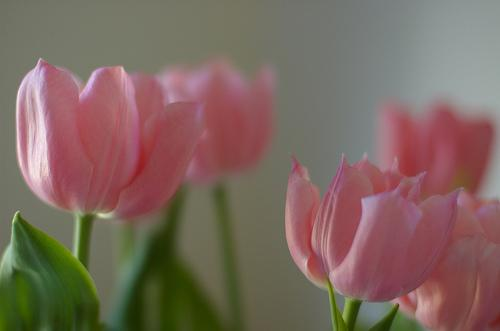tulip: (16, 57, 208, 222), (281, 152, 462, 300)
